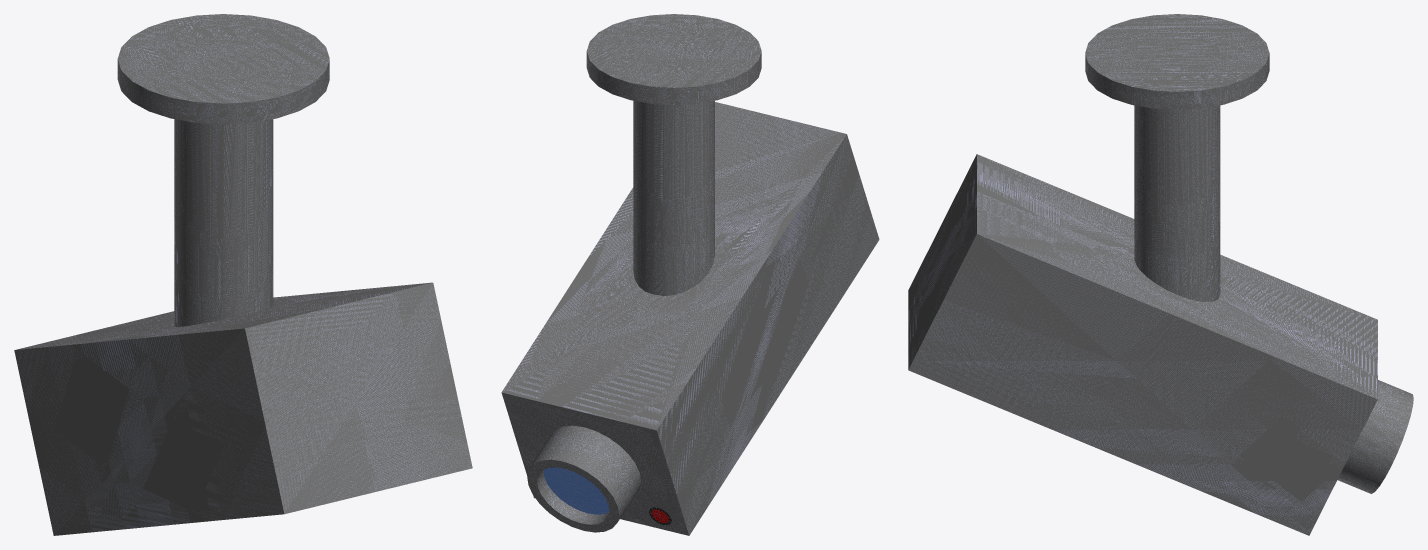
Rendered from cam_cftv.dae.
The picture shows the model from 3 angles, left to right: view 1: azimuth 30°, elevation 25°; view 2: azimuth 150°, elevation 25°; view 3: azimuth 270°, elevation 25°; orthographic projection. The views are drawn at different scales.
Parts seen in each view (by area): view 1: security_cam (×4); view 2: security_cam (×7); view 3: security_cam (×5).
Part boxes in pixels (left/top/right/bottom): security_cam (×4): left=14, top=14, right=472, bottom=535; security_cam (×7): left=501, top=14, right=879, bottom=535; security_cam (×5): left=908, top=14, right=1413, bottom=535.
Bounding box in the file's own units: 3.5 × 9.35 × 9.04.
